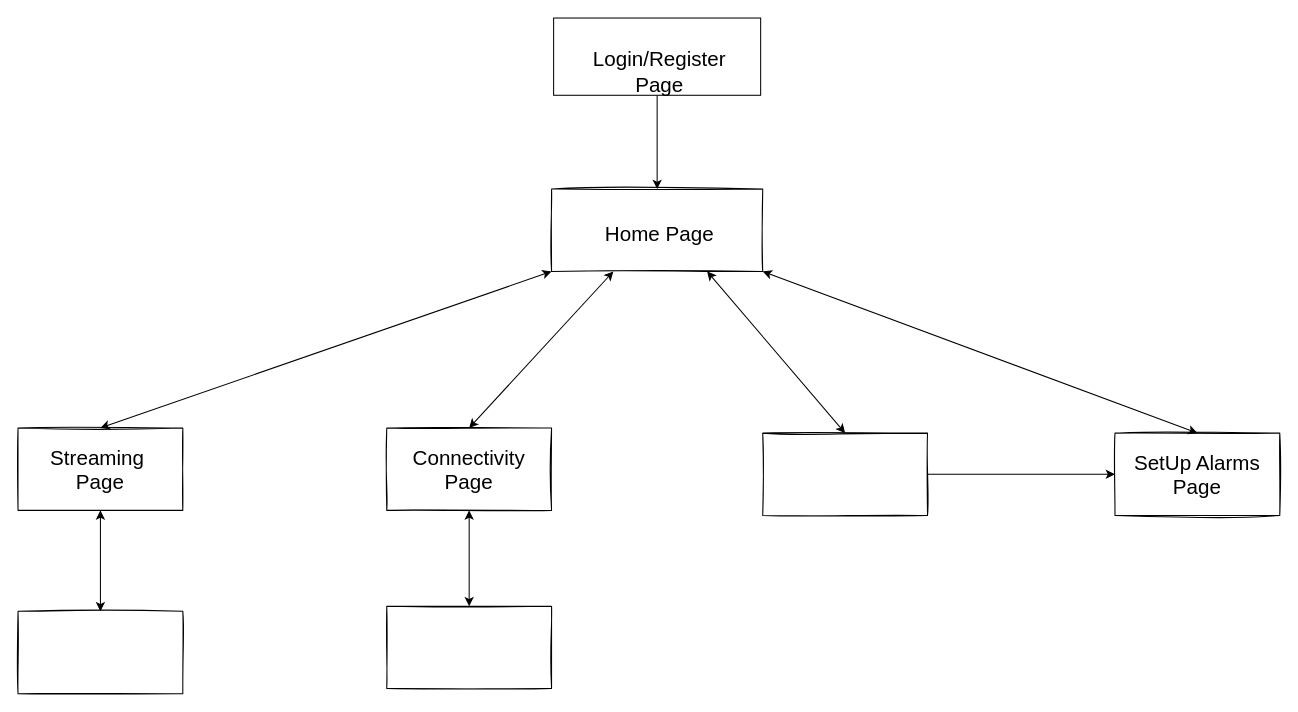
This 1298x712 diagram has some shape labels left out. Here are the shapes that lost their labels. From the top down, the box of each, then its label:
(762, 432, 928, 516): Tracking Page
(17, 610, 183, 694): Saved Streaming Page
(386, 605, 552, 689): SetUp Page
